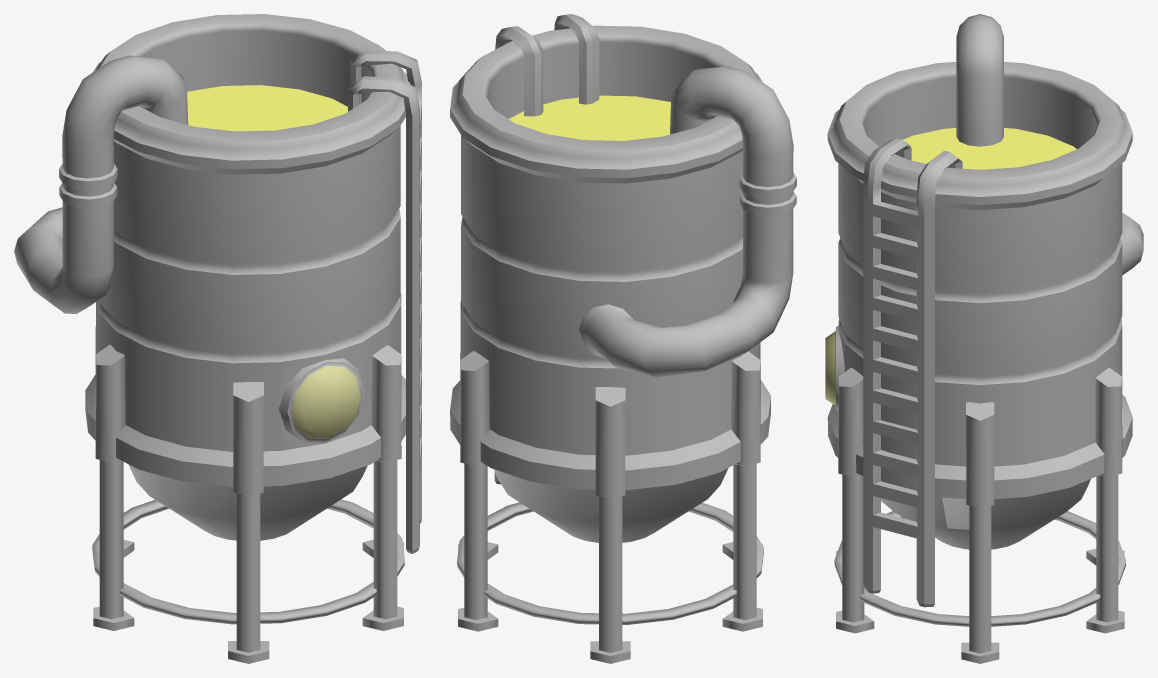
Rendered from SM_labvat_liquid.fbx.
3 renders of one model, left to right at view 1: azimuth 30°, elevation 25°; view 2: azimuth 150°, elevation 25°; view 3: azimuth 270°, elevation 25°, orthographic. The views are drawn at different scales.
Parts seen in each view (by area): view 1: SM_lab_vat_01; view 2: SM_lab_vat_01; view 3: SM_lab_vat_01.
Boxes of the visible parts, x1,y1,x2,y2 form: SM_lab_vat_01: [14, 14, 421, 663]; SM_lab_vat_01: [450, 14, 796, 663]; SM_lab_vat_01: [825, 14, 1143, 663].
Size of the model in its own units: 150 by 130 by 234.
